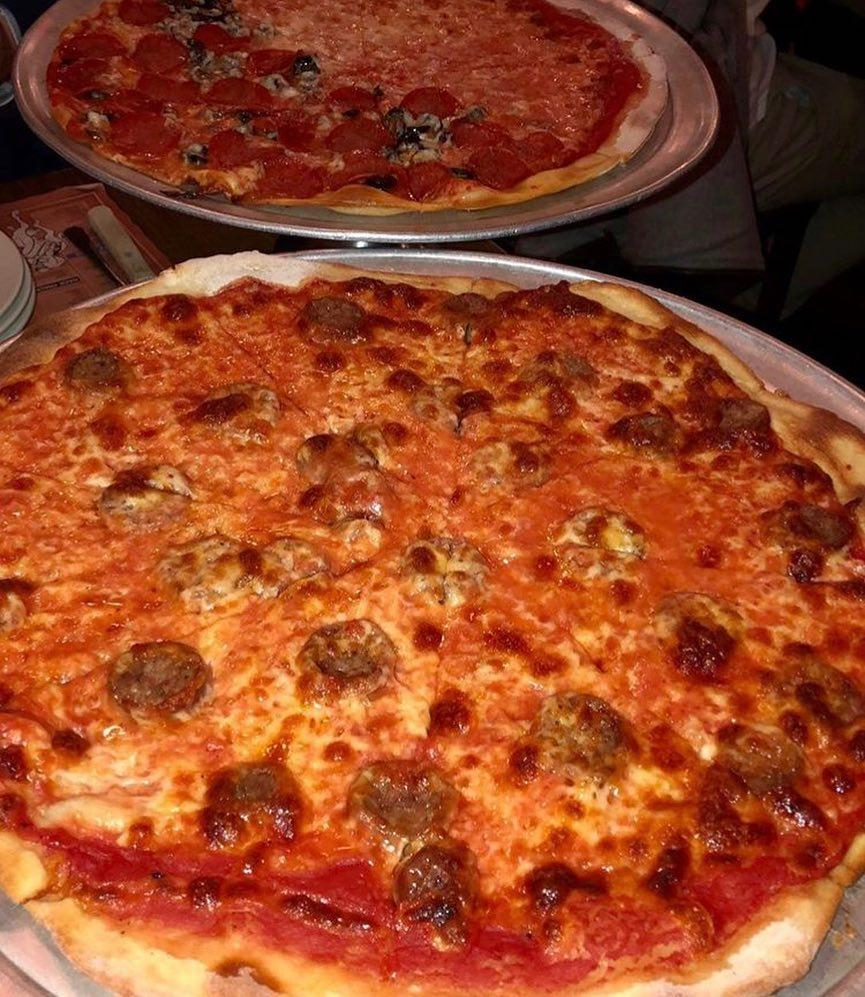Pepperoni: (110, 644, 221, 724), (296, 612, 398, 695), (398, 526, 488, 614), (354, 758, 461, 826), (204, 758, 297, 831), (530, 686, 617, 762), (398, 852, 472, 917), (300, 428, 381, 487), (104, 102, 176, 155), (180, 390, 267, 431), (104, 486, 184, 526), (126, 76, 201, 118), (302, 298, 368, 343), (262, 154, 326, 196), (470, 148, 533, 190), (58, 346, 123, 386), (254, 102, 315, 140), (396, 158, 453, 198), (68, 20, 118, 63), (332, 148, 392, 183), (138, 40, 190, 78), (398, 92, 457, 124), (254, 52, 309, 86), (328, 118, 389, 147), (212, 82, 270, 110), (190, 20, 233, 57), (322, 86, 371, 118), (120, 3, 169, 28), (50, 78, 102, 100), (212, 130, 251, 159)
Pizza: (12, 270, 865, 994), (24, 0, 678, 206)
